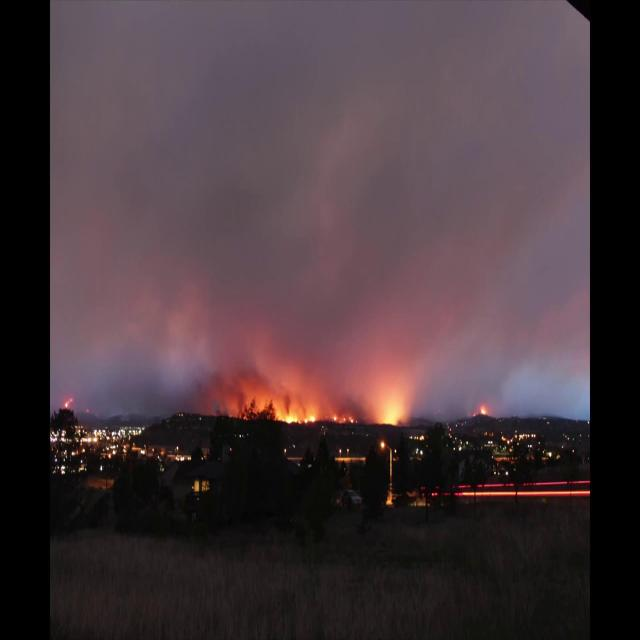Fire: (379, 401, 398, 425), (284, 414, 316, 426), (333, 412, 352, 425), (63, 396, 74, 408), (480, 407, 486, 414)
